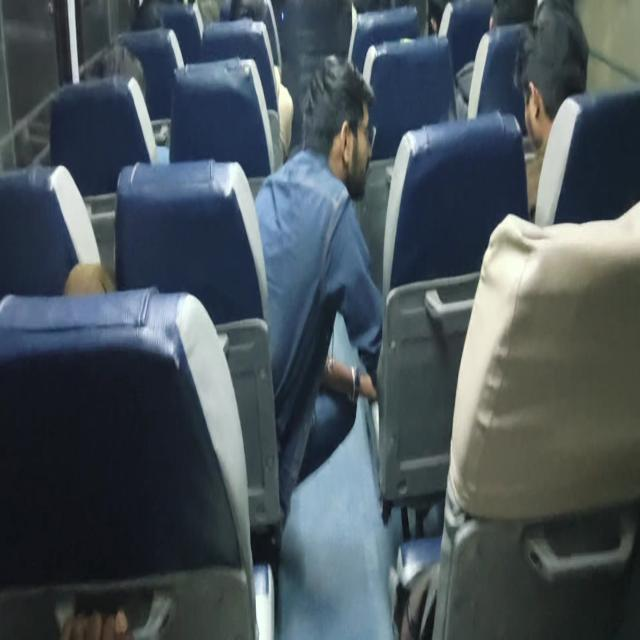person: (253, 53, 384, 531), (514, 4, 588, 218), (454, 0, 536, 119)
